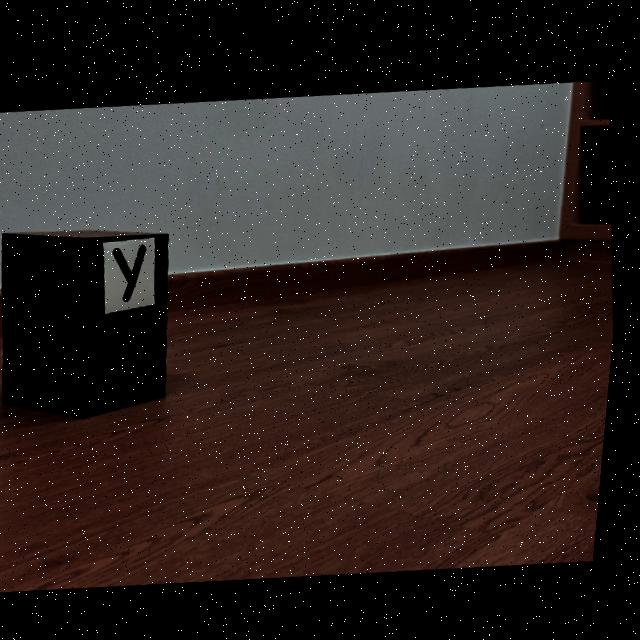Y: (117, 243, 151, 300)
